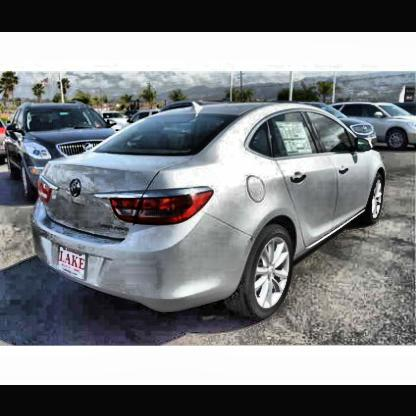Buick Verano Sedan 2012: (34, 104, 387, 318)
